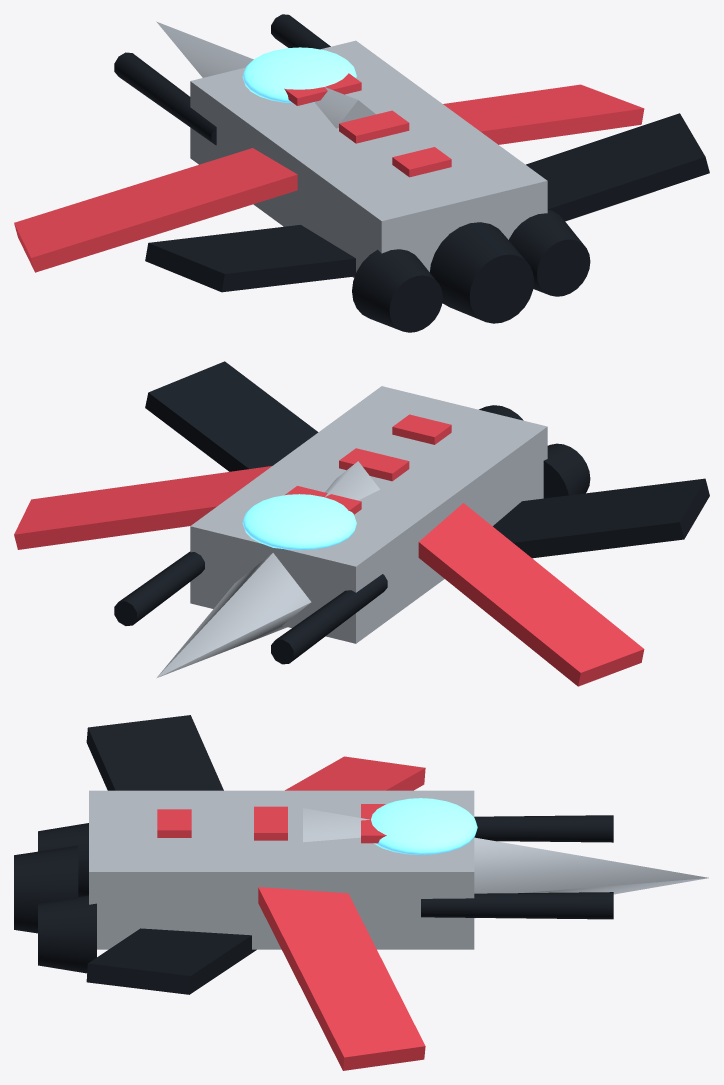
File: raptor-v.glb
3 renders of one model, top to bottom at view 1: azimuth 30°, elevation 25°; view 2: azimuth 150°, elevation 25°; view 3: azimuth 270°, elevation 25°, orthographic.
Visible parts, largest first — view 1: angular fighter fuselage, predator forward wing -1, dark rear wing 1, dark rear wing -1, centerline engine bell, predator forward wing 1, raptor side engine -1, raptor side engine 1, smoked attack canopy, raptor spear prow, exposed cannon barrel -1, raptor dorsal plate 1 (+3 smaller); view 2: angular fighter fuselage, predator forward wing -1, dark rear wing -1, dark rear wing 1, predator forward wing 1, raptor spear prow, smoked attack canopy, exposed cannon barrel -1, exposed cannon barrel 1, raptor side engine -1, raptor dorsal plate 1, raptor dorsal plate 2 (+1 smaller); view 3: angular fighter fuselage, predator forward wing 1, raptor spear prow, dark rear wing -1, dark rear wing 1, smoked attack canopy, exposed cannon barrel 1, raptor side engine 1, centerline engine bell, exposed cannon barrel -1, predator forward wing -1, raptor side engine -1 (+3 smaller).
Boxes of the visible parts, <box> form: angular fighter fuselage: <box>190,40,547,277</box>; predator forward wing -1: <box>14,148,297,272</box>; dark rear wing 1: <box>526,113,709,221</box>; dark rear wing -1: <box>145,224,355,292</box>; centerline engine bell: <box>430,222,533,323</box>; predator forward wing 1: <box>443,84,644,144</box>; raptor side engine -1: <box>352,249,442,332</box>; raptor side engine 1: <box>509,210,590,296</box>; smoked attack canopy: <box>242,47,356,103</box>; raptor spear prow: <box>156,21,375,128</box>; exposed cannon barrel -1: <box>114,52,216,145</box>; raptor dorsal plate 1: <box>339,110,409,143</box>; angular fighter fuselage: <box>190,386,547,643</box>; predator forward wing -1: <box>418,503,644,686</box>; dark rear wing -1: <box>493,478,709,558</box>; dark rear wing 1: <box>145,361,318,471</box>; predator forward wing 1: <box>14,466,271,549</box>; raptor spear prow: <box>156,461,379,678</box>; smoked attack canopy: <box>242,494,356,550</box>; exposed cannon barrel -1: <box>271,574,387,664</box>; exposed cannon barrel 1: <box>114,551,204,625</box>; raptor side engine -1: <box>543,443,590,498</box>; raptor dorsal plate 1: <box>339,448,409,481</box>; raptor dorsal plate 2: <box>392,414,451,444</box>; angular fighter fuselage: <box>89,790,474,949</box>; predator forward wing 1: <box>258,887,425,1070</box>; raptor spear prow: <box>303,808,708,918</box>; dark rear wing -1: <box>86,715,223,790</box>; dark rear wing 1: <box>86,928,256,994</box>; smoked attack canopy: <box>371,798,477,854</box>; exposed cannon barrel 1: <box>421,892,613,919</box>; raptor side engine 1: <box>38,895,96,973</box>; centerline engine bell: <box>14,845,78,933</box>; exposed cannon barrel -1: <box>474,815,613,842</box>; predator forward wing -1: <box>285,756,425,790</box>; raptor side engine -1: <box>38,823,88,896</box>.
Size of the model in its own units: 63.21 by 13.68 by 61.75.
